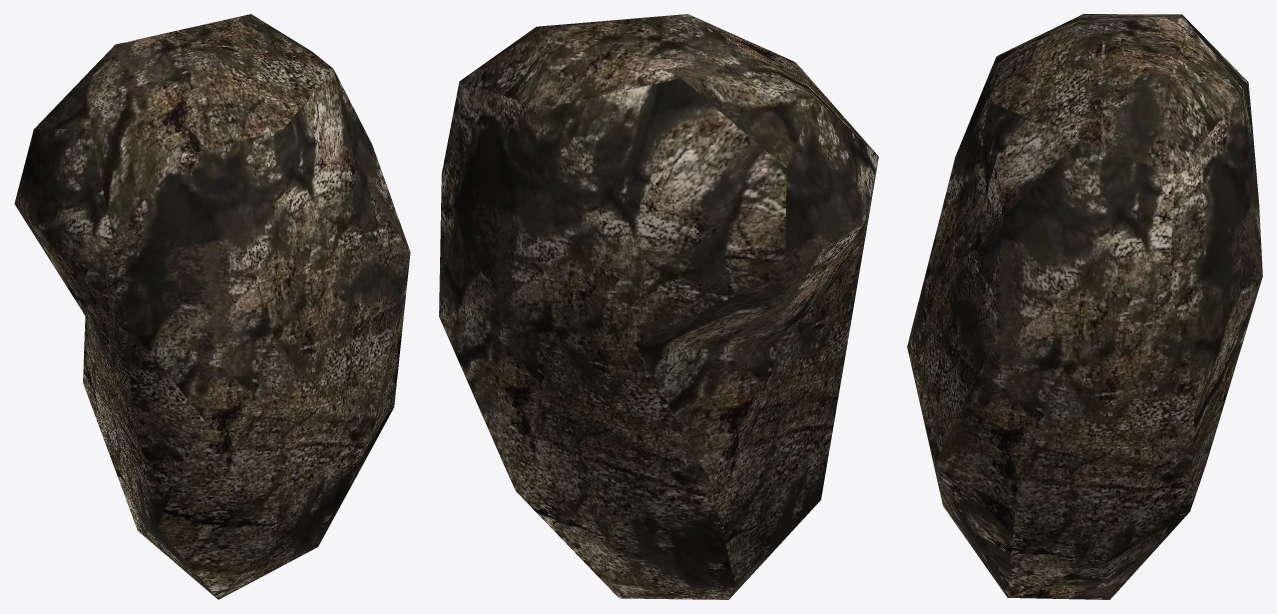
The model's file is ITAT_NATUREGOLEMHEART.glb.
The picture shows the model from 3 angles, left to right: view 1: azimuth 30°, elevation 25°; view 2: azimuth 150°, elevation 25°; view 3: azimuth 270°, elevation 25°; orthographic projection. The views are drawn at different scales.
Visible parts, largest first — view 1: Mesh; view 2: Mesh; view 3: Mesh.
Boxes of the visible parts, box(x1,y1,x2,y2) form: Mesh: box(14, 14, 410, 599); Mesh: box(439, 14, 878, 599); Mesh: box(907, 14, 1262, 599).
Bounding box in the file's own units: 0.2162 × 0.3053 × 0.1735.
1 material, 1 textured.
